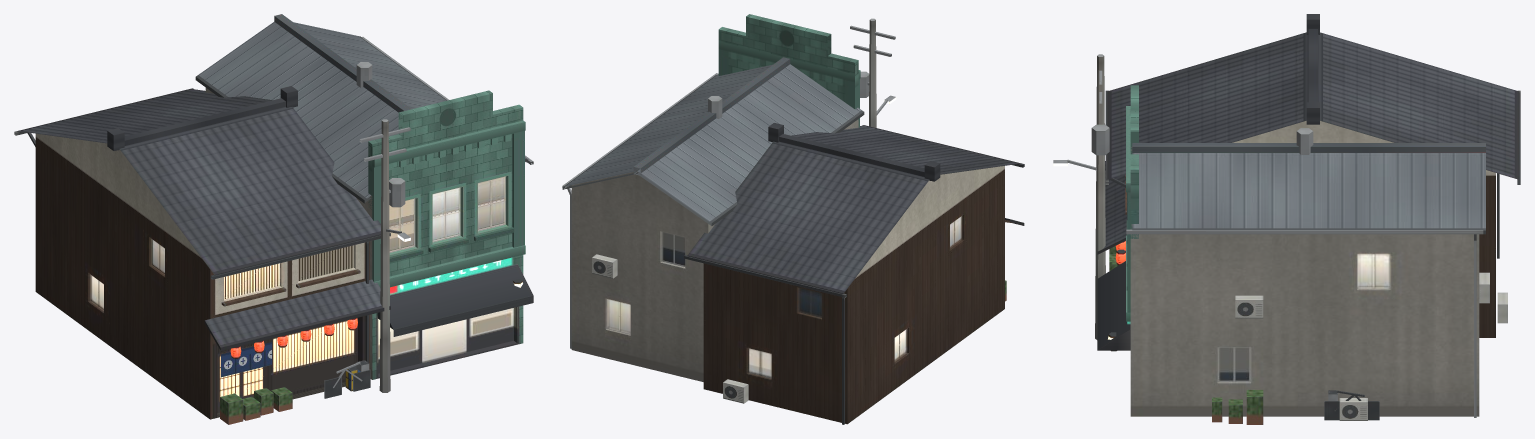
The model's file is tokyo_house_b.glb.
3 views of the same model, side by side, from view 1: azimuth 30°, elevation 25°; view 2: azimuth 150°, elevation 25°; view 3: azimuth 270°, elevation 25° (orthographic). The views are drawn at different scales.
Parts seen in each view (by area): view 1: tokyo_house_b; view 2: tokyo_house_b; view 3: tokyo_house_b.
Part boxes in pixels (box(x1,y1,x2,y2)): tokyo_house_b: box(14, 14, 533, 424); tokyo_house_b: box(562, 14, 1024, 424); tokyo_house_b: box(1053, 14, 1520, 424).
Size of the model in its own units: 12.45 by 9.4 by 14.08.
Materials: 1 (1 with a texture image).
